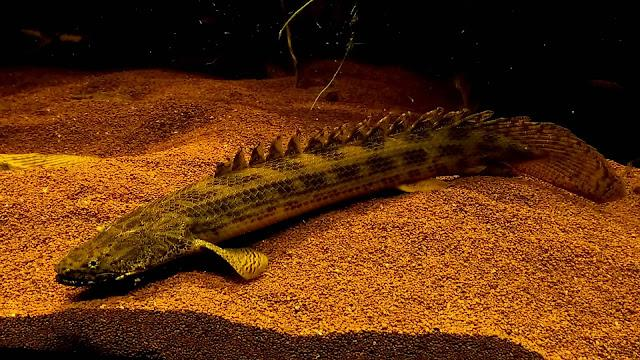Mulut: (44, 259, 118, 305)
Sirip Dada: (184, 230, 276, 286)
Sirip Ekor: (506, 105, 620, 207)
Sirip Perut: (395, 170, 455, 200)
Sirip Punggung: (205, 100, 501, 180)
